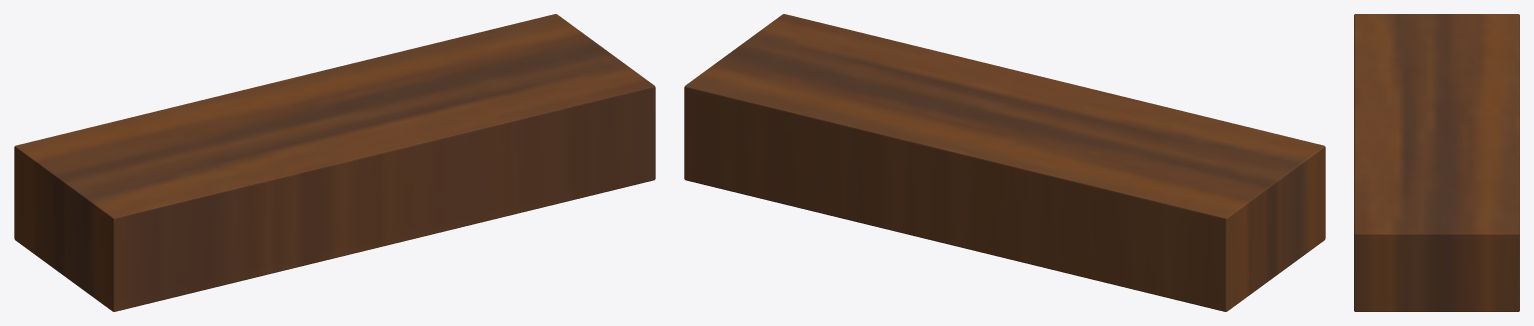
File: CM_FacadeBay01_Beam_1p5m.fbx
3 views of the same model, side by side, from view 1: azimuth 30°, elevation 25°; view 2: azimuth 150°, elevation 25°; view 3: azimuth 270°, elevation 25° (orthographic). The views are drawn at different scales.
Visible parts, largest first — view 1: CM_FacadeBay01_Beam_1p5m_Timber; view 2: CM_FacadeBay01_Beam_1p5m_Timber; view 3: CM_FacadeBay01_Beam_1p5m_Timber.
Boxes of the visible parts, x1,y1,x2,y2 form: CM_FacadeBay01_Beam_1p5m_Timber: (14, 14, 655, 311); CM_FacadeBay01_Beam_1p5m_Timber: (684, 14, 1325, 311); CM_FacadeBay01_Beam_1p5m_Timber: (1354, 14, 1519, 311).
Bounding box in the file's own units: 1.32 × 0.22 × 0.42.
